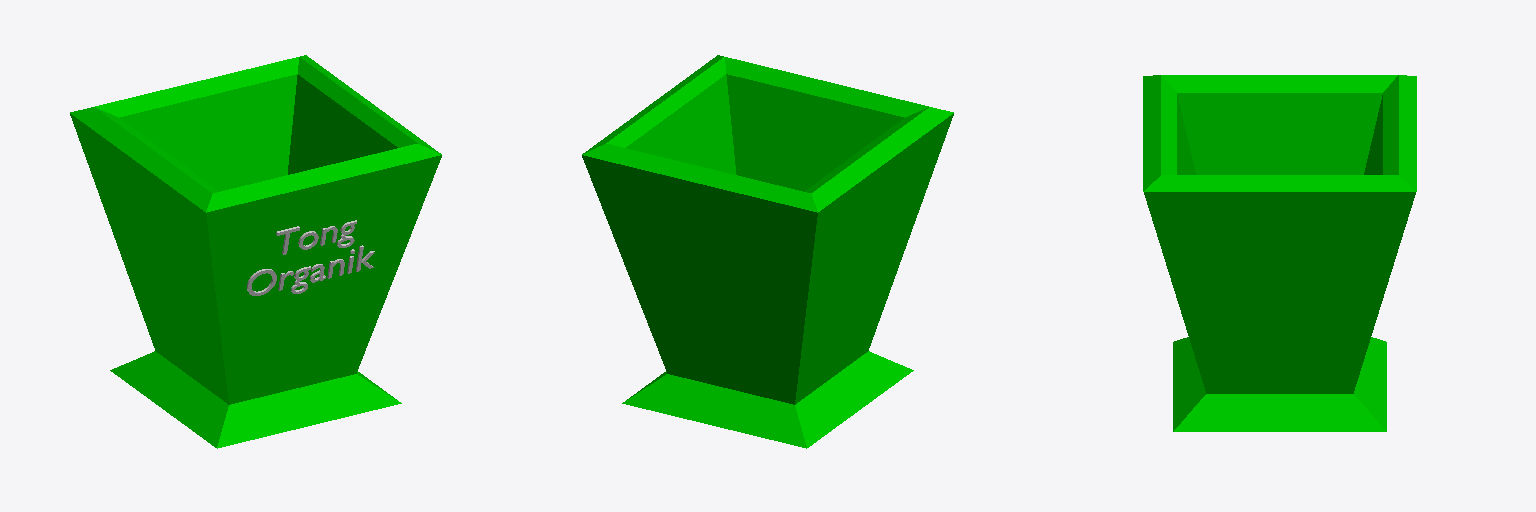
File: sampahorganik.obj
The picture shows the model from 3 angles: view 1: azimuth 30°, elevation 25°; view 2: azimuth 150°, elevation 25°; view 3: azimuth 270°, elevation 25°; orthographic projection.
Parts seen in each view (by area): view 1: Cube, Text; view 2: Cube; view 3: Cube.
Boxes of the visible parts, x1=… form: Cube: x1=70, y1=55, x2=441, y2=448; Text: x1=247, y1=220, x2=374, y2=295; Cube: x1=582, y1=55, x2=953, y2=448; Cube: x1=1143, y1=75, x2=1416, y2=431.
Size of the model in its own units: 3 by 3.17 by 3.